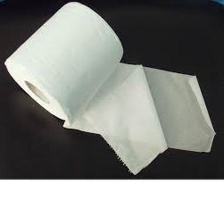tissue: (0, 0, 222, 178)
